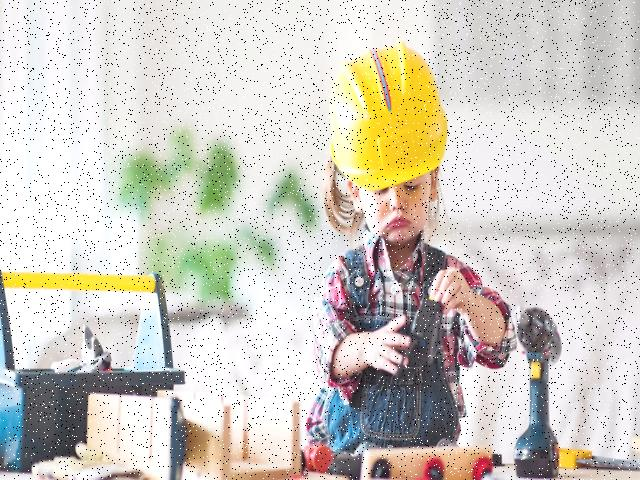Helmet: (321, 32, 452, 207)
